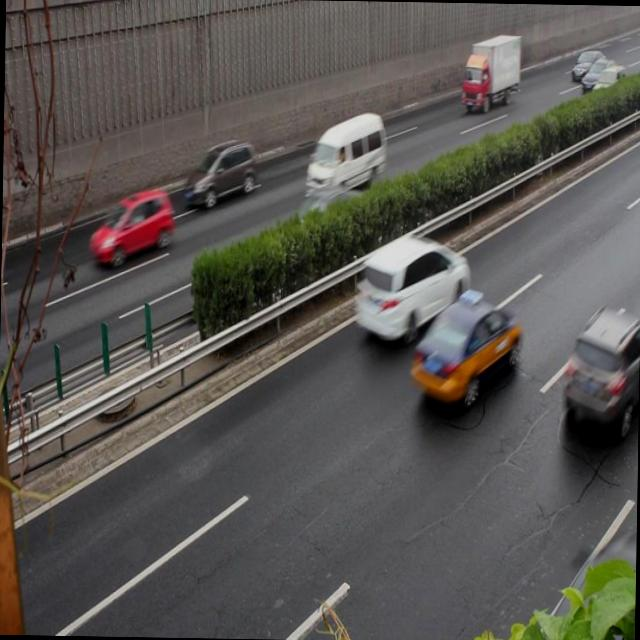car: (352, 232, 468, 342), (408, 292, 518, 403), (558, 303, 640, 429), (87, 187, 172, 265), (284, 183, 364, 257), (184, 136, 255, 206)
